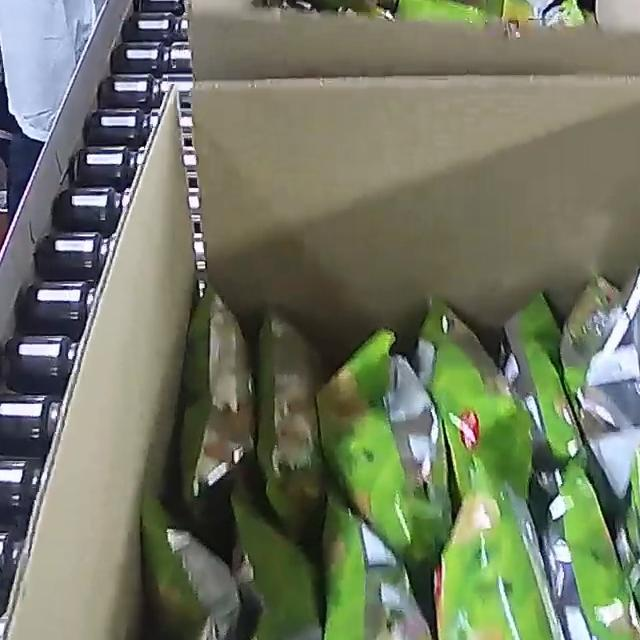yogurt: (190, 275, 640, 640), (312, 0, 630, 52)
